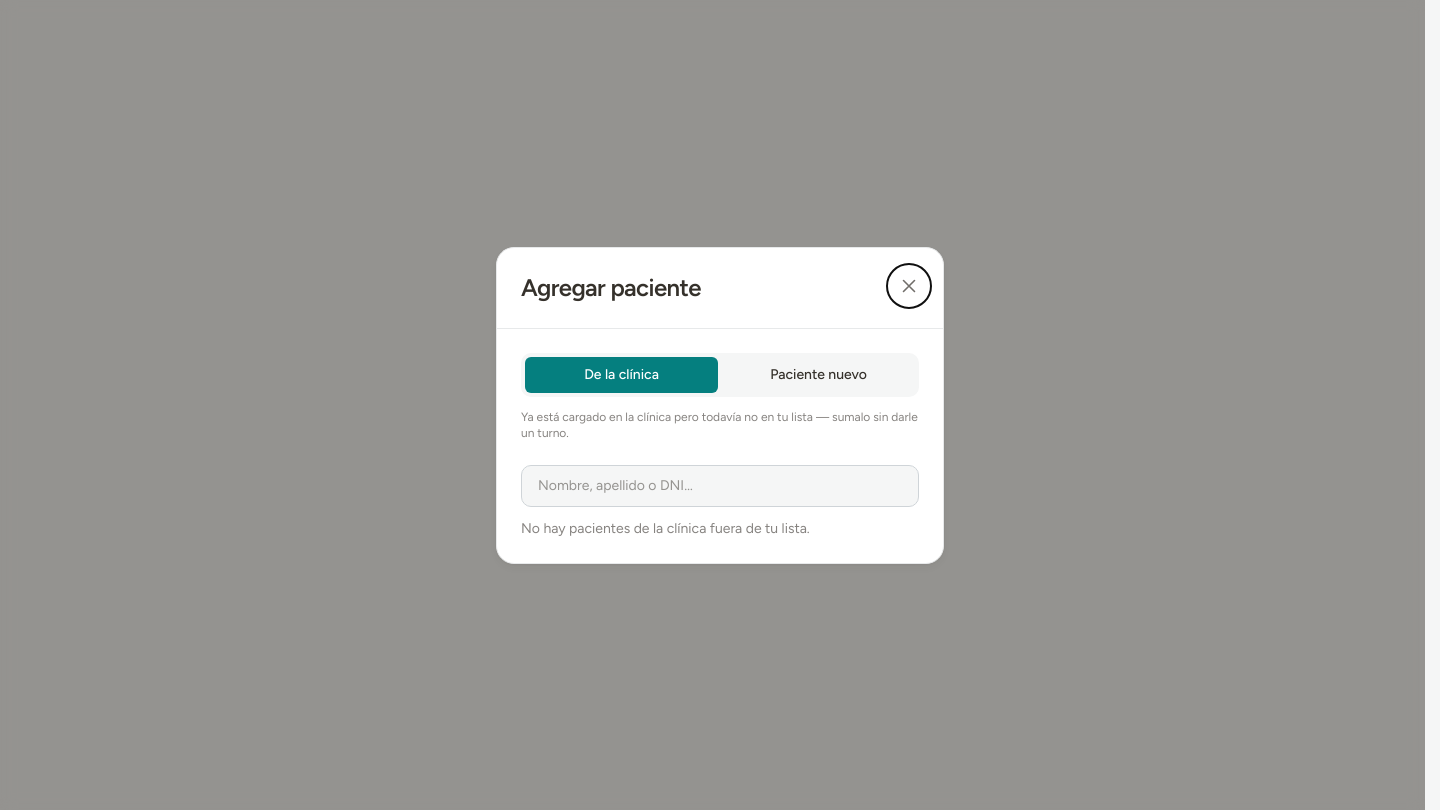
AgregarPacienteModal › nombre y apellido son obligatorios
What coordinates should you click on to do the following:
click the button "Paciente nuevo"
I would click on:
 (818, 374)
Its box is [722,356,915,392].
(page scrolled)
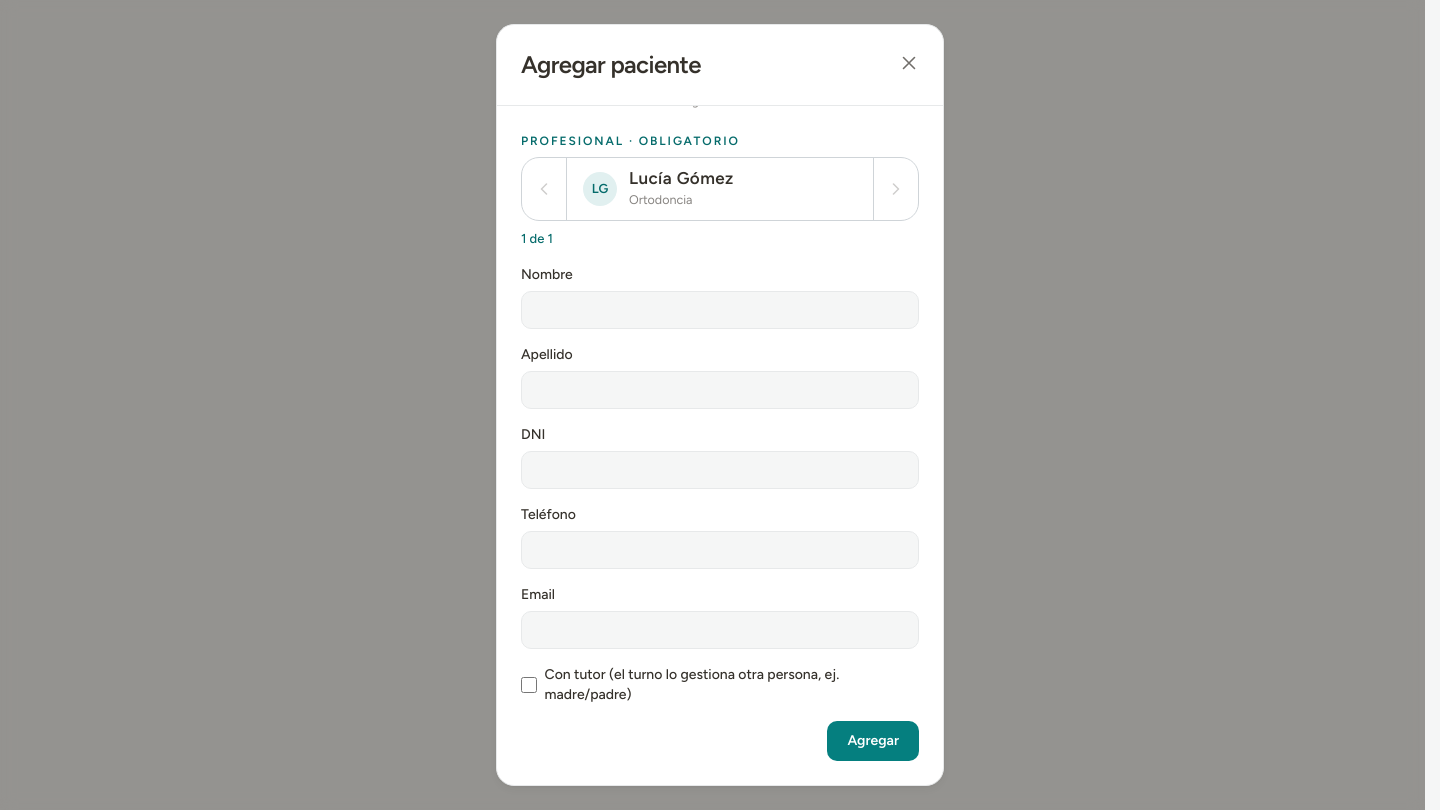
What coordinates should you click on to do the following:
click the button "Agregar"
I would click on:
 (873, 740)
Its box is [827,720,919,760].
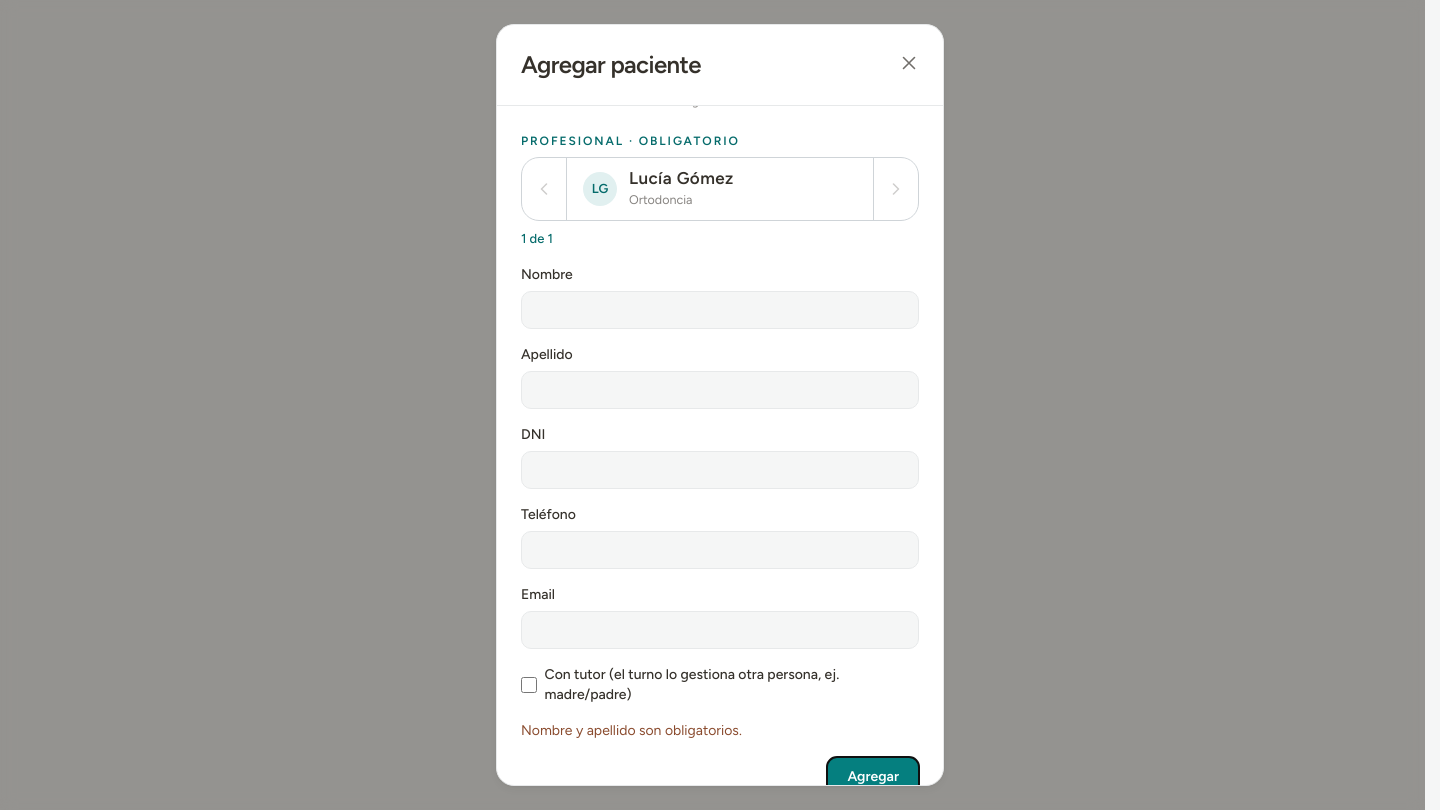
Expected: the message shows "Nombre y apellido son obligatorios", [521,722,742,738]
